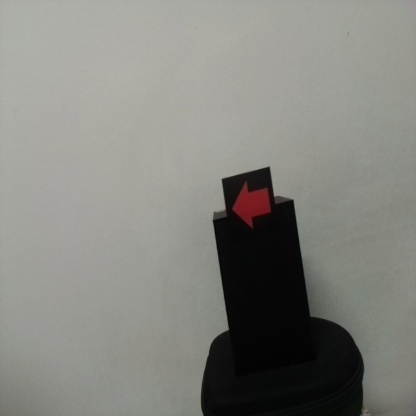id_4: (222, 179, 278, 238)
